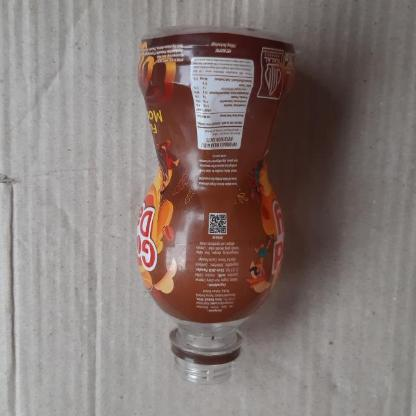Plastic Bottle: (137, 26, 299, 386)
